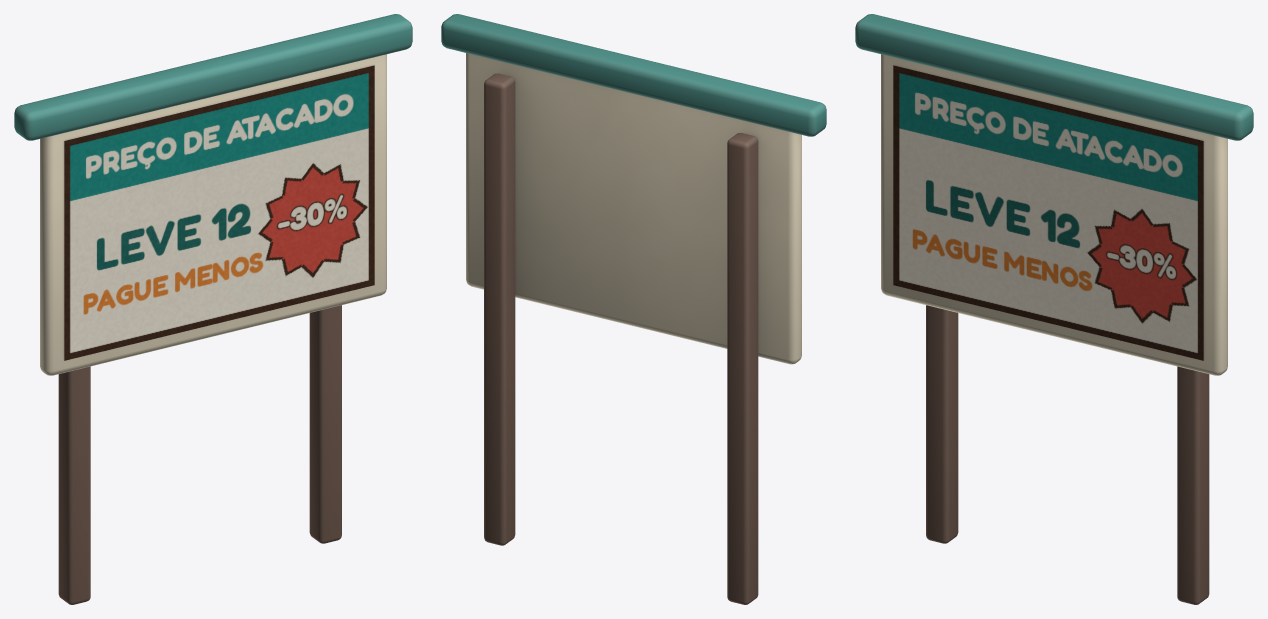
File: WholesaleBoard.fbx
The picture shows the model from 3 angles, left to right: view 1: azimuth 30°, elevation 25°; view 2: azimuth 150°, elevation 25°; view 3: azimuth 330°, elevation 25°; orthographic projection. The views are drawn at different scales.
Visible parts, largest first — view 1: WholesaleBoard; view 2: WholesaleBoard; view 3: WholesaleBoard.
Boxes of the visible parts, x1,y1,x2,y2 form: WholesaleBoard: (14,14,412,604); WholesaleBoard: (441,14,826,604); WholesaleBoard: (855,14,1253,604).
Size of the model in its own units: 170 by 216 by 21.
